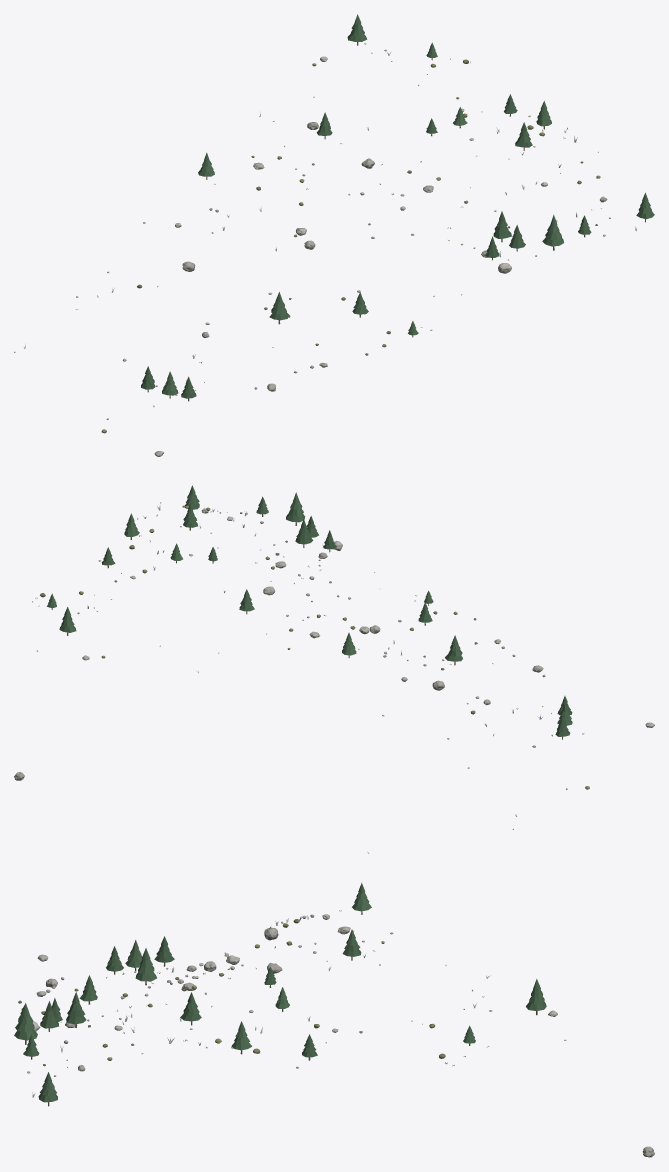
File: coast_land_scatter_c10_15.glb
The picture shows the model from 3 angles, top to bottom: view 1: azimuth 30°, elevation 25°; view 2: azimuth 150°, elevation 25°; view 3: azimuth 270°, elevation 25°; orthographic projection. The views are drawn at different scales.
Parts seen in each view (by area): view 1: coast_land_scatter_c10_15; view 2: coast_land_scatter_c10_15; view 3: coast_land_scatter_c10_15.
Part boxes in pixels (left/top/right/bottom): coast_land_scatter_c10_15: left=14, top=14, right=654, bottom=456; coast_land_scatter_c10_15: left=14, top=485, right=654, bottom=853; coast_land_scatter_c10_15: left=14, top=882, right=654, bottom=1157.
Bounding box in the file's own units: 256 × 102 × 245.
